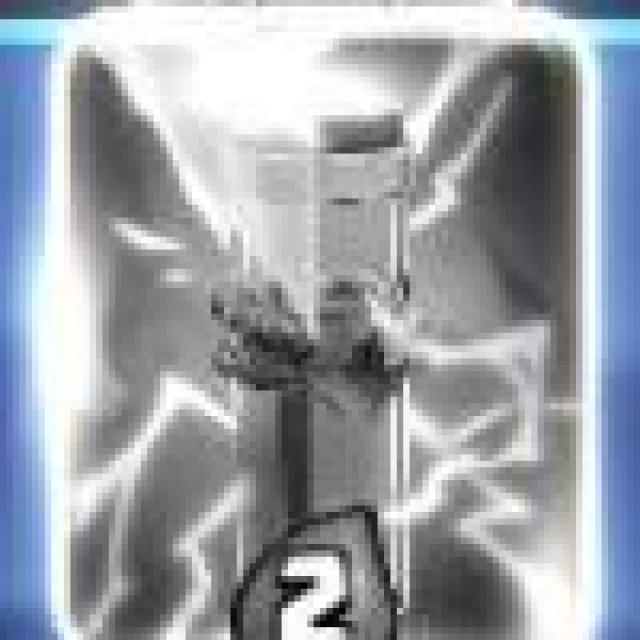Evolved_Zap: (52, 28, 600, 640)
